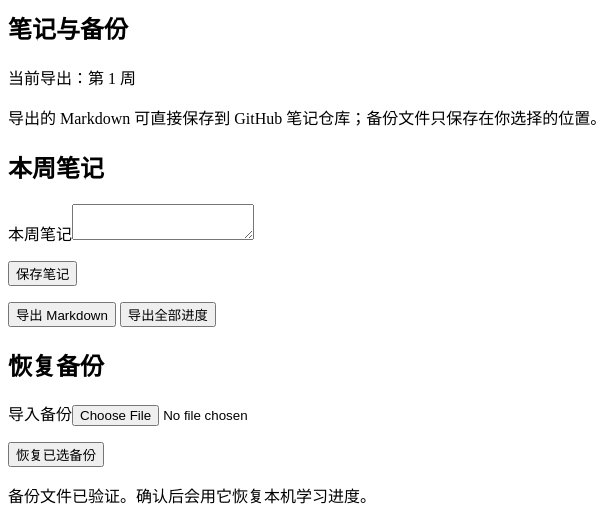
Test: NotesSettingsPage › shows a conflict warning and keeps a safe retry option with the verified current state
This screenshot has width=613, height=522.
Earlier steps of the test are not shown.
Expected: the message "备份文件已验证。确认后会用它恢复本机学习进度。" is shown, [8,488,376,505]
Click the button "恢复已选备份": [56, 455] box [8,442,104,467]
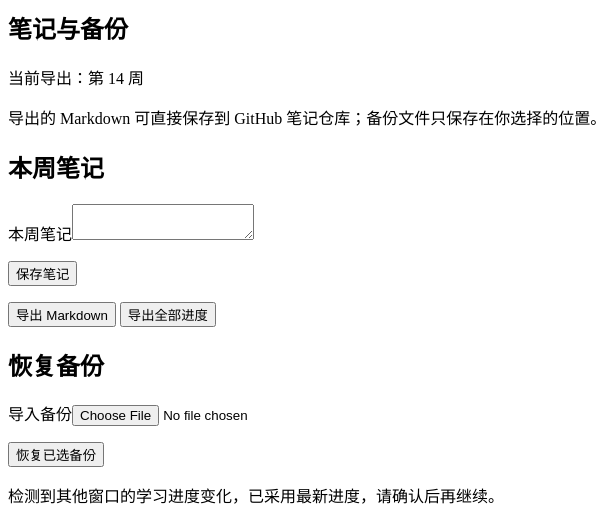
Result: the message shows "其他窗口" at [8,488,504,505]
Result: the text "当前导出：第 14 周" is shown at [8,70,144,87]
